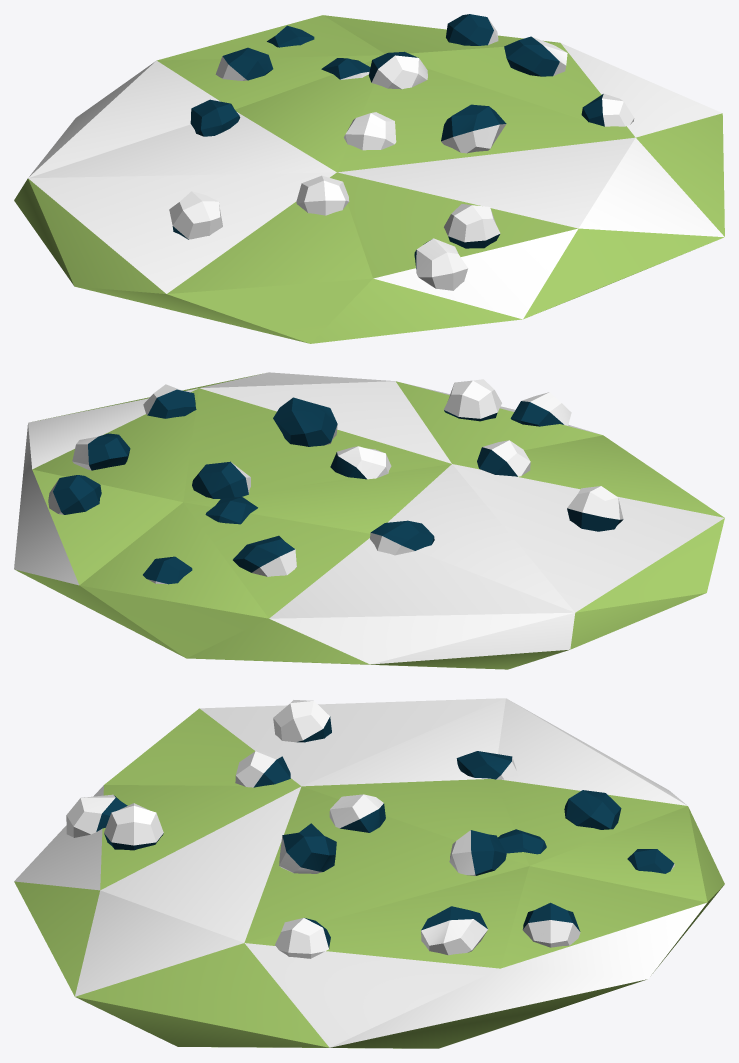
The model's file is crowberry_3.fbx.
The picture shows the model from 3 angles, top to bottom: view 1: azimuth 30°, elevation 25°; view 2: azimuth 150°, elevation 25°; view 3: azimuth 270°, elevation 25°; orthographic projection. The views are drawn at different scales.
Parts seen in each view (by area): view 1: Apple_Snow_01.015; view 2: Apple_Snow_01.015; view 3: Apple_Snow_01.015.
Part boxes in pixels (box(x1,y1,x2,y2)): Apple_Snow_01.015: box(14, 14, 724, 343); Apple_Snow_01.015: box(14, 372, 724, 669); Apple_Snow_01.015: box(14, 698, 724, 1048).
Size of the model in its own units: 2.04 by 0.3994 by 1.78.
1 material, 1 textured.
